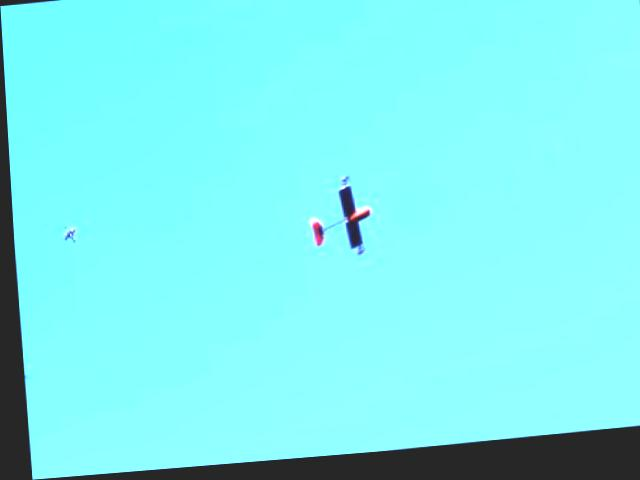uav: (293, 171, 380, 272)
